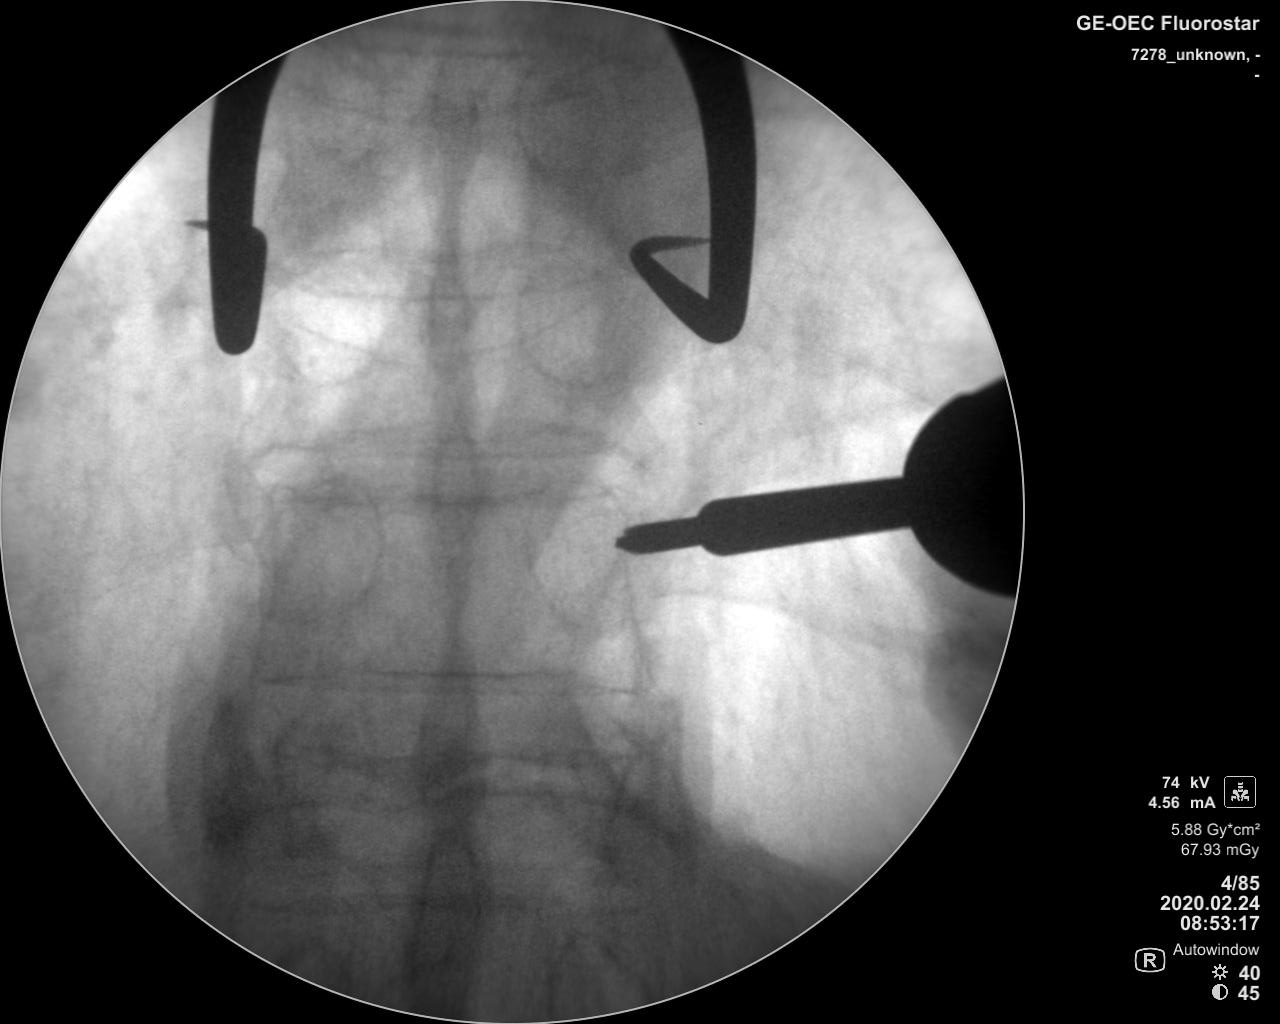eyes: (518, 252, 630, 395), (263, 480, 378, 615), (510, 47, 619, 187), (521, 474, 615, 622), (277, 252, 363, 385)
line: (247, 665, 651, 707), (281, 256, 616, 307), (248, 428, 625, 470), (229, 884, 637, 920)
nose: (413, 616, 488, 822), (402, 825, 488, 982), (419, 392, 485, 582), (409, 228, 483, 385), (417, 54, 483, 219)
